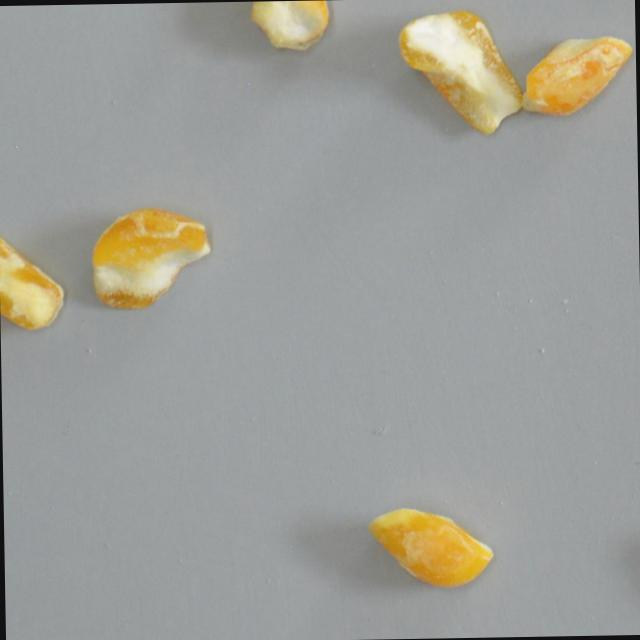pelicula: (392, 0, 524, 137), (87, 204, 211, 312), (366, 503, 494, 593), (518, 31, 634, 116), (0, 227, 65, 332), (245, 0, 331, 54)
